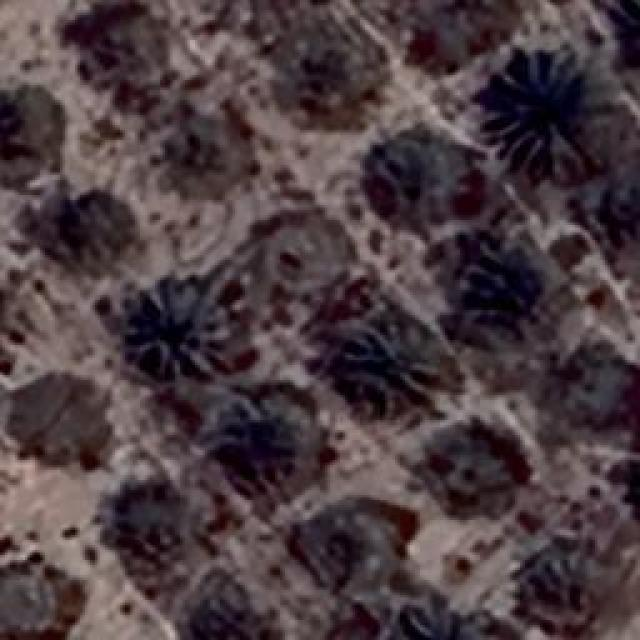PalmTree: (34, 45, 124, 601), (492, 55, 592, 175), (127, 278, 230, 378), (220, 400, 318, 488), (524, 541, 618, 629), (428, 424, 518, 511), (458, 251, 546, 334), (342, 328, 440, 400), (562, 346, 639, 428), (382, 145, 460, 223), (291, 46, 369, 112), (114, 487, 198, 545), (418, 0, 514, 46), (186, 590, 266, 640), (592, 191, 640, 264), (390, 607, 495, 640), (168, 132, 230, 182), (62, 205, 116, 255), (0, 94, 30, 166), (612, 0, 640, 69), (622, 0, 640, 72)
